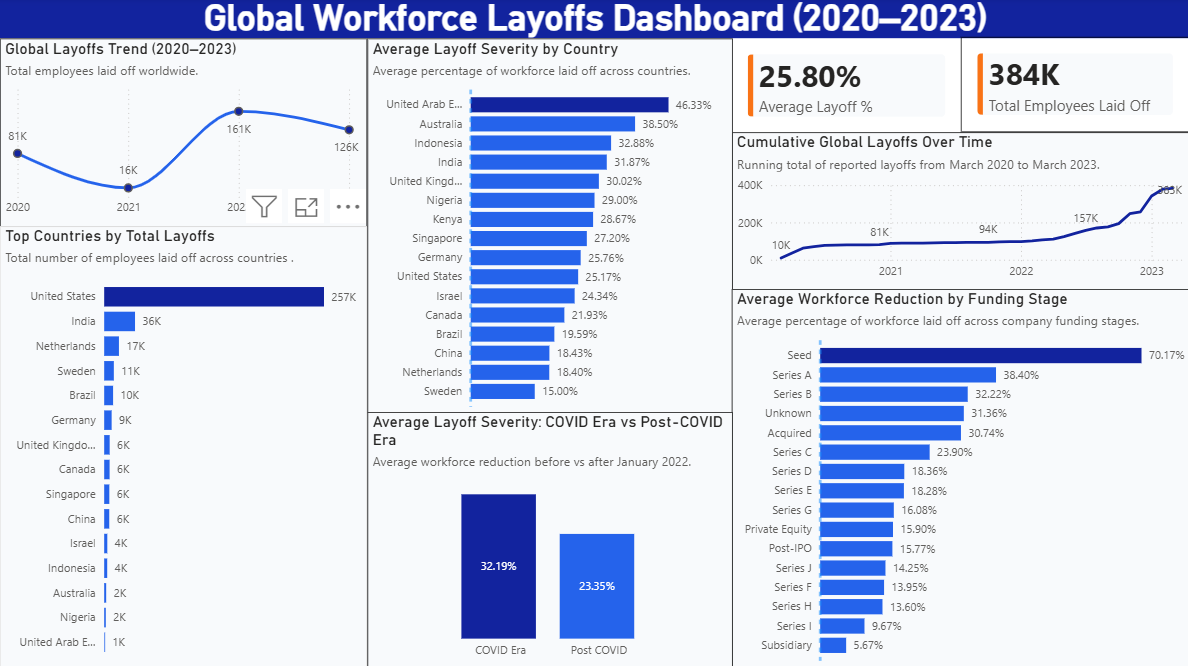

The dashboard page shown, as its layout file describes it:
{"tool":"powerbi","page":{"name":"Dashboard","canvas":[1280,720],"ordinal":3},"visuals":[{"type":"textbox","title":"Global Workforce Layoffs Dashboard (2020–2023)","box":[0,0,1278,44],"z":0},{"type":"lineChart","title":"Global Layoffs Trend (2020–2023)","fields":{"Category":["clean_layoffs.date.Variation.Date Hierarchy.Year"],"Y":["Sum(clean_layoffs.total_laid_off)"]},"box":[0,44,394,202],"z":1000},{"type":"lineChart","title":"Cumulative Global Layoffs Over Time","fields":{"Category":["clean_layoffs.date.Variation.Date Hierarchy.Year","clean_layoffs.date.Variation.Date Hierarchy.Month"],"Y":["Sum(clean_layoffs.total_laid_off)","select"]},"box":[785.9,145.8,492.4,169.4],"z":2000},{"type":"barChart","title":"Average Layoff Severity by Country","fields":{"Y":["Avg(clean_layoffs.percentage_laid_off)"],"Category":["clean_layoffs.country"]},"box":[394,44,392,402],"z":3000},{"type":"barChart","title":"Average Workforce Reduction by Funding Stage","fields":{"Category":["clean_layoffs.stage"],"Y":["Avg(clean_layoffs.percentage_laid_off)"]},"box":[785.7,314.3,494.3,405.7],"z":4000},{"type":"barChart","title":"Top Countries by Total Layoffs","fields":{"Category":["clean_layoffs.country"],"Y":["Sum(clean_layoffs.total_laid_off)"]},"box":[0,246.2,394,474.7],"z":5000},{"type":"cardVisual","fields":{"Data":["Sum(clean_layoffs.total_laid_off)"]},"box":[1032.1,43.3,246.2,102.4],"z":6000},{"type":"cardVisual","fields":{"Data":["Avg(clean_layoffs.percentage_laid_off)"]},"box":[786.2,43.8,246.2,101.2],"z":7000},{"type":"columnChart","title":"Average Layoff Severity: COVID Era vs Post-COVID Era","fields":{"Category":["clean_layoffs.Period"],"Y":["Avg(clean_layoffs.percentage_laid_off)"],"Series":["clean_layoffs.Period"]},"box":[394,445.2,392,275.8],"z":8000}]}

Visuals, with their boxes in screenshot pixels (x1, y1, x2, y2), scaled from the page's 1280x720 canvas onto the 1188x666 screenshot:
"Global Workforce Layoffs Dashboard (2020–2023)" textbox: <region>0, 0, 1186, 41</region>
"Global Layoffs Trend (2020–2023)" lineChart: <region>0, 41, 366, 228</region>
"Cumulative Global Layoffs Over Time" lineChart: <region>729, 135, 1186, 292</region>
"Average Layoff Severity by Country" barChart: <region>366, 41, 730, 413</region>
"Average Workforce Reduction by Funding Stage" barChart: <region>729, 291, 1187, 665</region>
"Top Countries by Total Layoffs" barChart: <region>0, 228, 366, 665</region>
cardVisual - Sum(clean_layoffs.total_laid_off): <region>958, 40, 1186, 135</region>
cardVisual - Avg(clean_layoffs.percentage_laid_off): <region>730, 41, 958, 134</region>
"Average Layoff Severity: COVID Era vs Post-COVID Era" columnChart: <region>366, 412, 730, 665</region>
